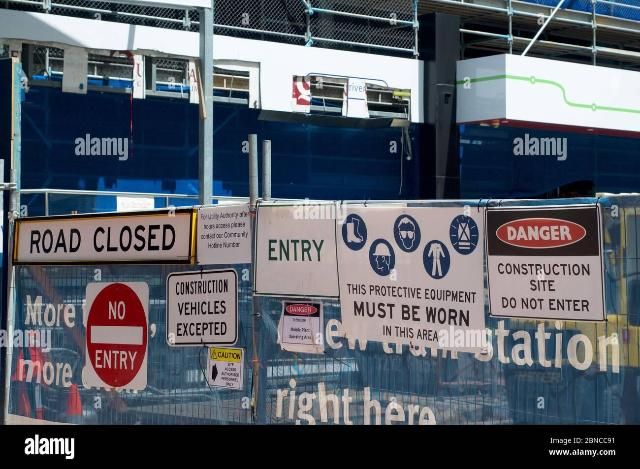B2: (82, 281, 148, 391)
